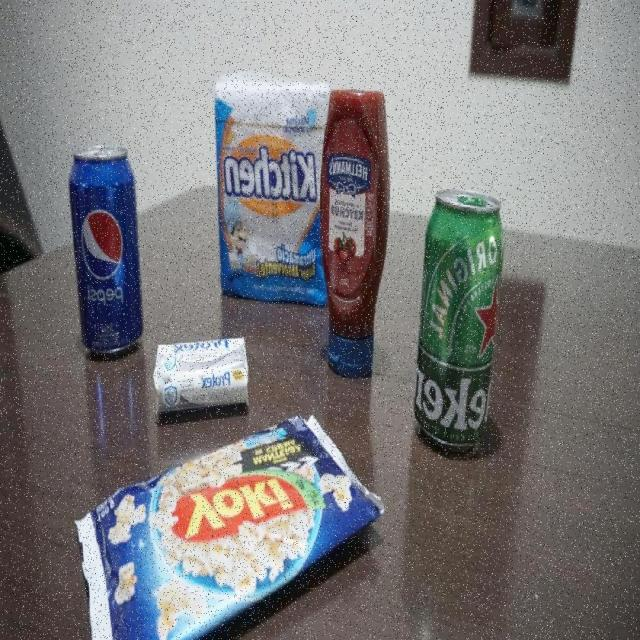BeerCan: (412, 184, 507, 459)
Ketchup: (317, 86, 391, 386)
Napkin: (212, 68, 336, 314)
Popcorn: (74, 414, 383, 640)
Soap: (151, 336, 252, 414)
SodaCan: (66, 143, 147, 359)
